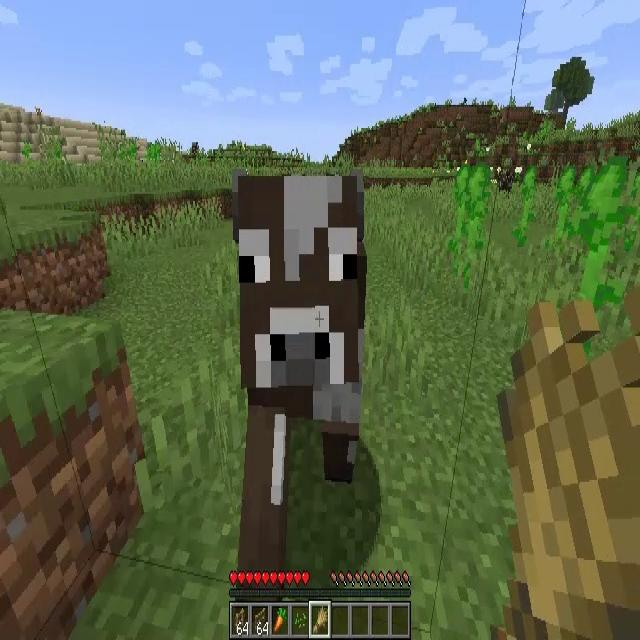cow: (238, 175, 364, 566)
